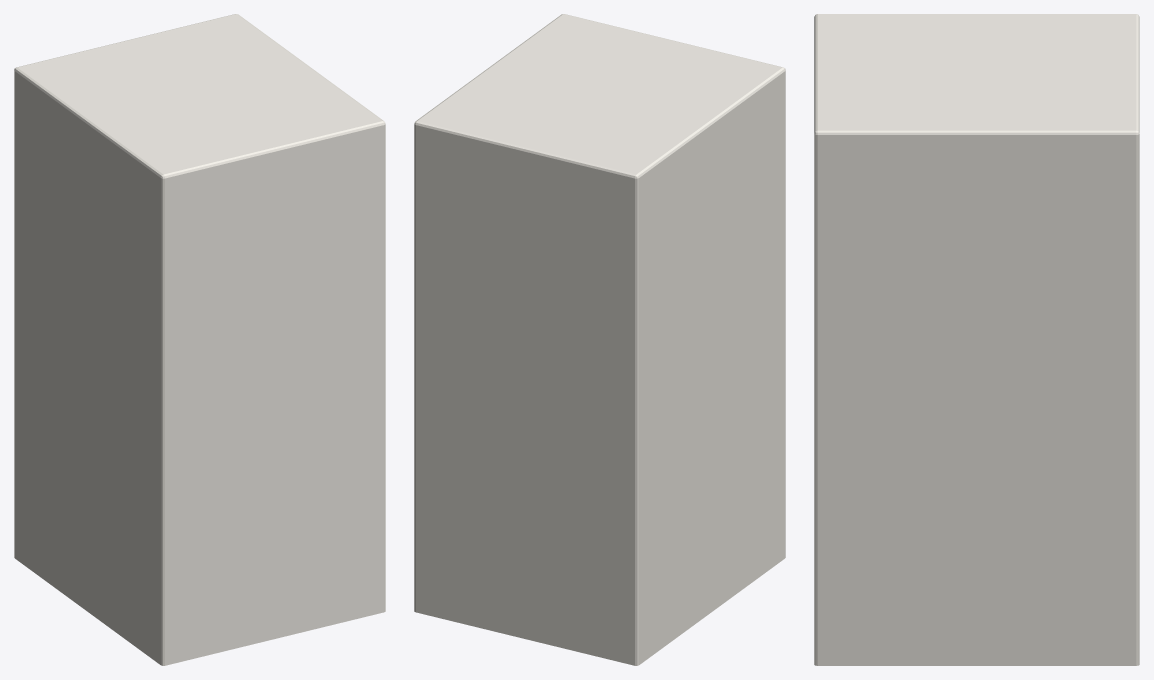
Rendered from Aur_DisplayStand_Short.gltf.
The picture shows the model from 3 angles, left to right: view 1: azimuth 30°, elevation 25°; view 2: azimuth 150°, elevation 25°; view 3: azimuth 270°, elevation 25°; orthographic projection. The views are drawn at different scales.
Parts seen in each view (by area): view 1: Aur_DisplayStand_short.001; view 2: Aur_DisplayStand_short.001; view 3: Aur_DisplayStand_short.001.
Part boxes in pixels (x1,y1,x2,y2): Aur_DisplayStand_short.001: [14, 14, 385, 665]; Aur_DisplayStand_short.001: [414, 14, 785, 665]; Aur_DisplayStand_short.001: [814, 14, 1139, 665].
Size of what is drawn, in the model's own units: 0.3085 by 0.6433 by 0.3555.
Materials: 1 (1 with a texture image).
